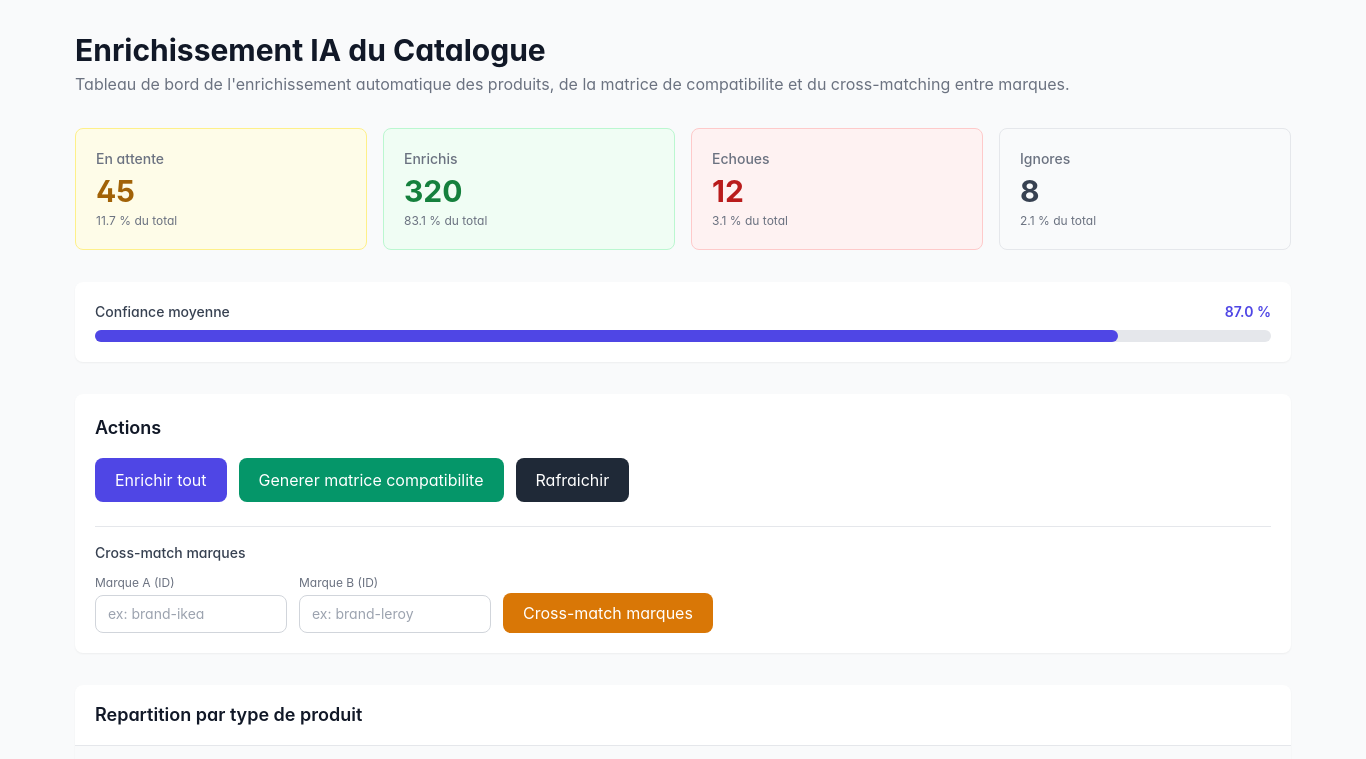
Test case: EnrichmentDashboard › Action Buttons › should show success message after successful action
The image size is (1366, 759).
Click the button "Enrichir tout" at (161, 480), box x1=95 y1=458 x2=226 y2=502
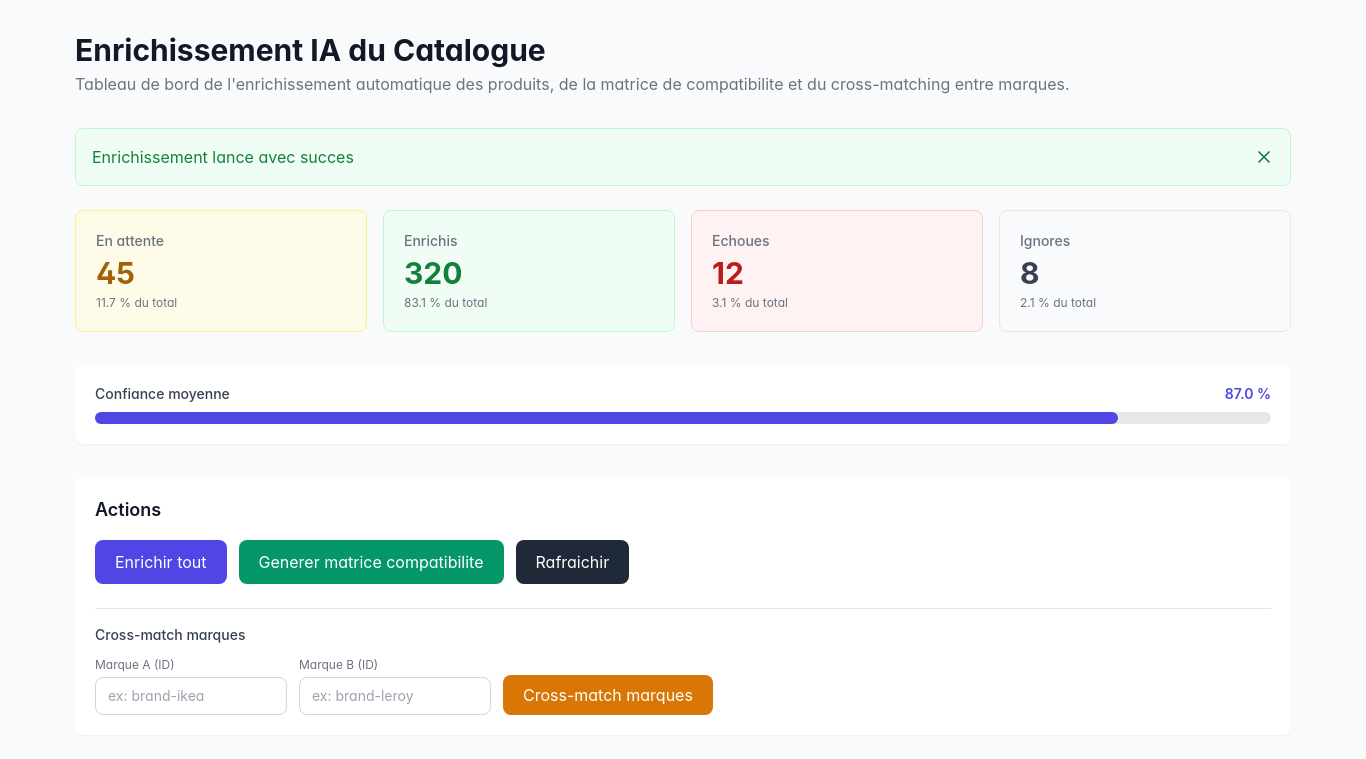
Expected: the text "Enrichissement lance avec succes" is shown, x1=92 y1=145 x2=354 y2=169
